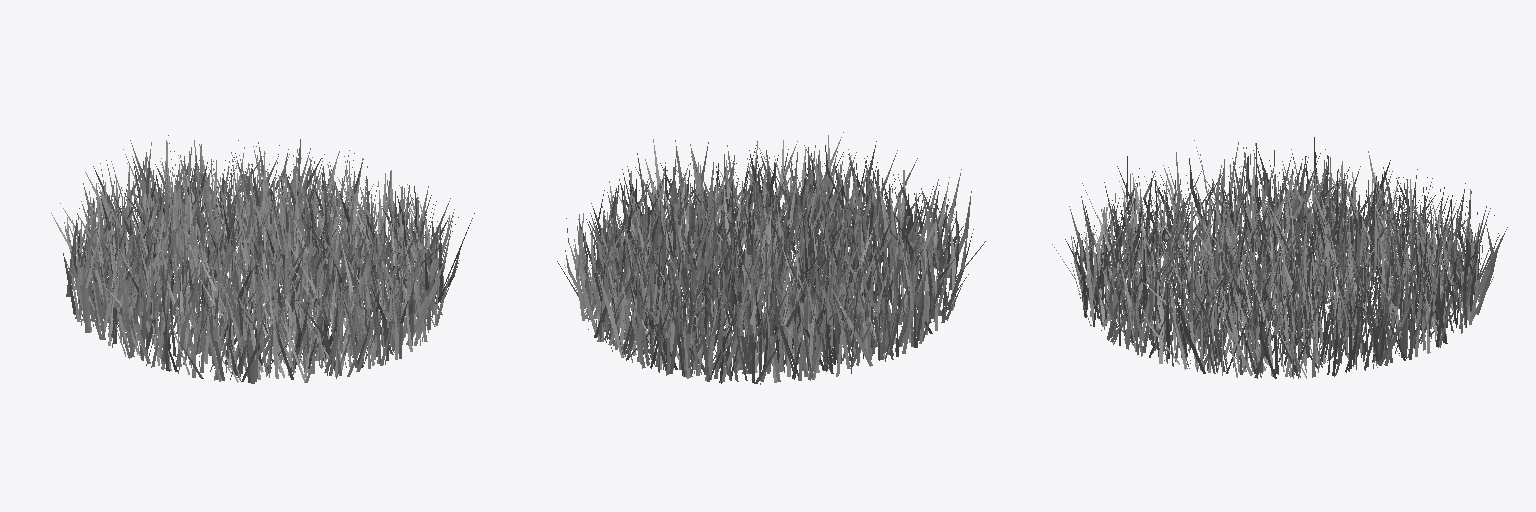
File: grass.obj
The picture shows the model from 3 angles: view 1: azimuth 30°, elevation 25°; view 2: azimuth 150°, elevation 25°; view 3: azimuth 270°, elevation 25°; orthographic projection.
Bounding box in the file's own units: 7 × 1.81 × 8.06.